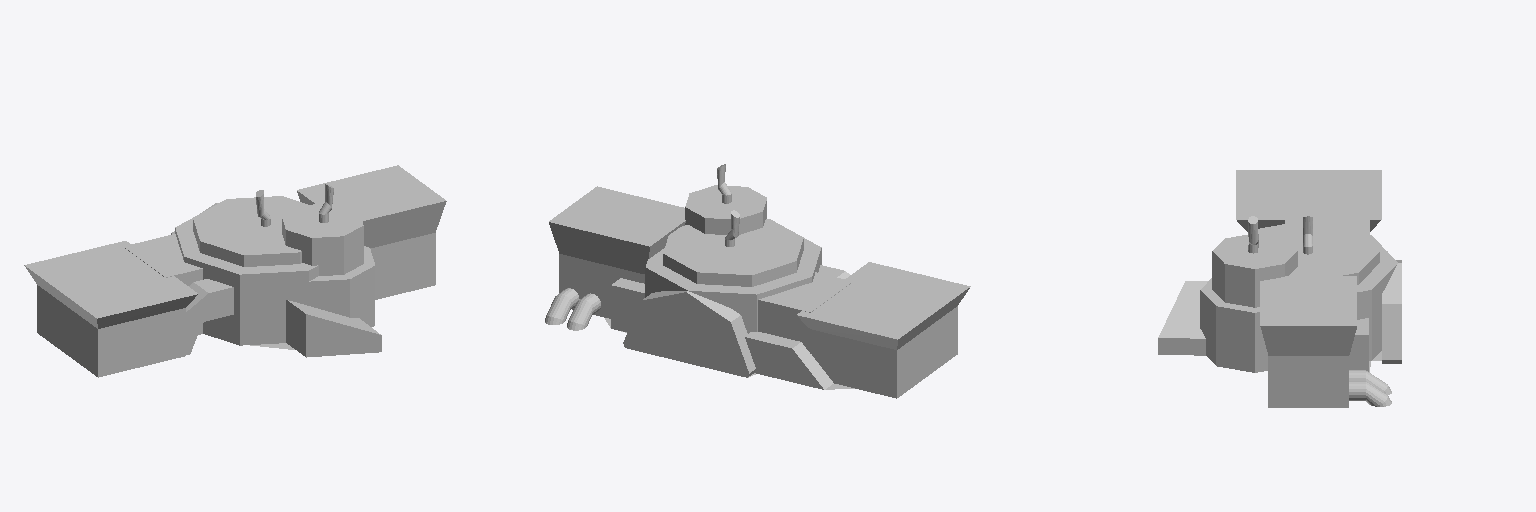
Rendered from Metal House Final.obj.
3 renders of one model, left to right at view 1: azimuth 30°, elevation 25°; view 2: azimuth 150°, elevation 25°; view 3: azimuth 270°, elevation 25°, orthographic.
Parts seen in each view (by area): view 1: Metal_House; view 2: Metal_House; view 3: Metal_House.
Boxes of the visible parts, x1,y1,x2,y2 form: Metal_House: [24, 165, 446, 377]; Metal_House: [545, 164, 970, 398]; Metal_House: [1158, 170, 1401, 407].
Bounding box in the file's own units: 20.64 × 7.36 × 12.03.